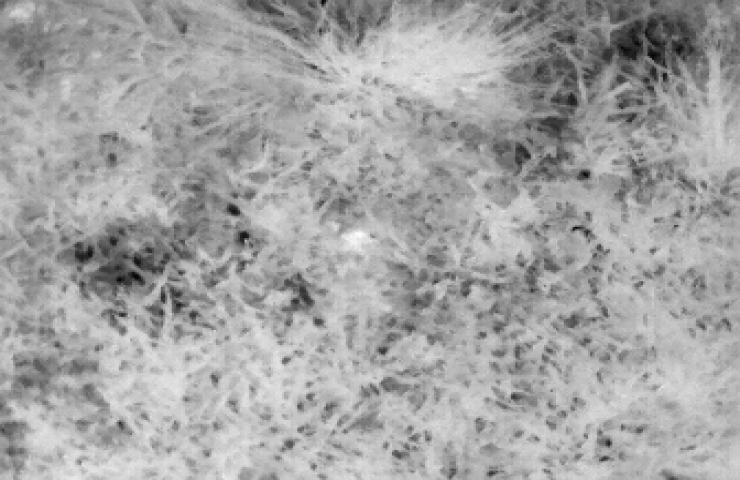landmines: (319, 199, 386, 257)
